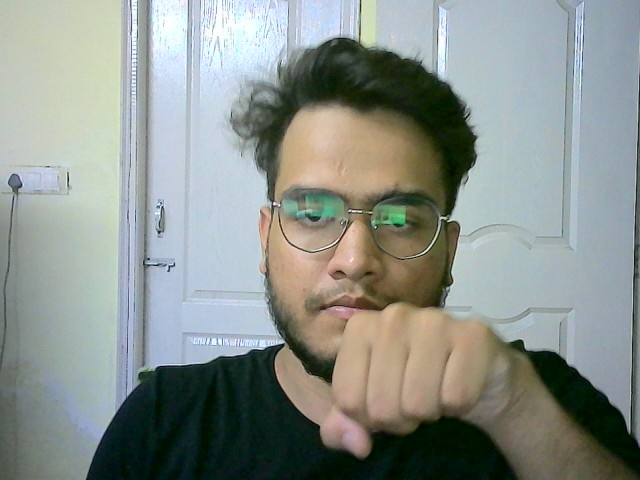Yes: (323, 298, 523, 456)
